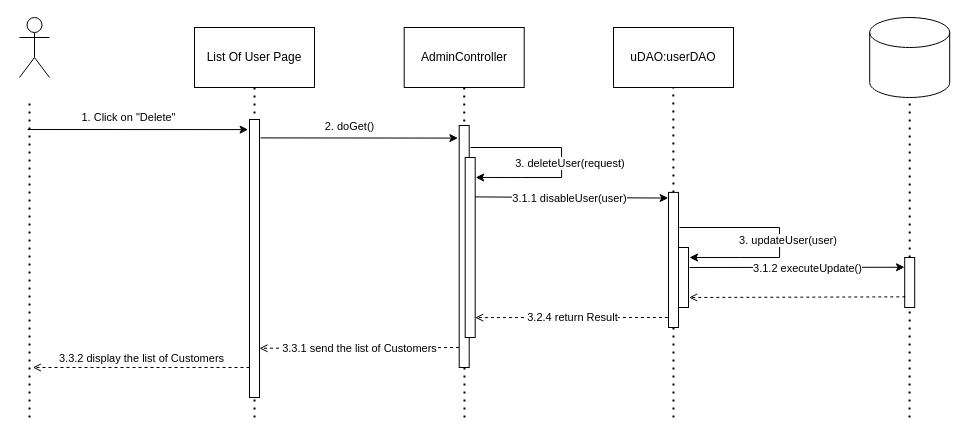
Image size: 968x437. Some labels were removed from this diagram. Each missing label, with the centre of its shape:
"Admin" goes at (34,47).
"Database" goes at (909,57).
